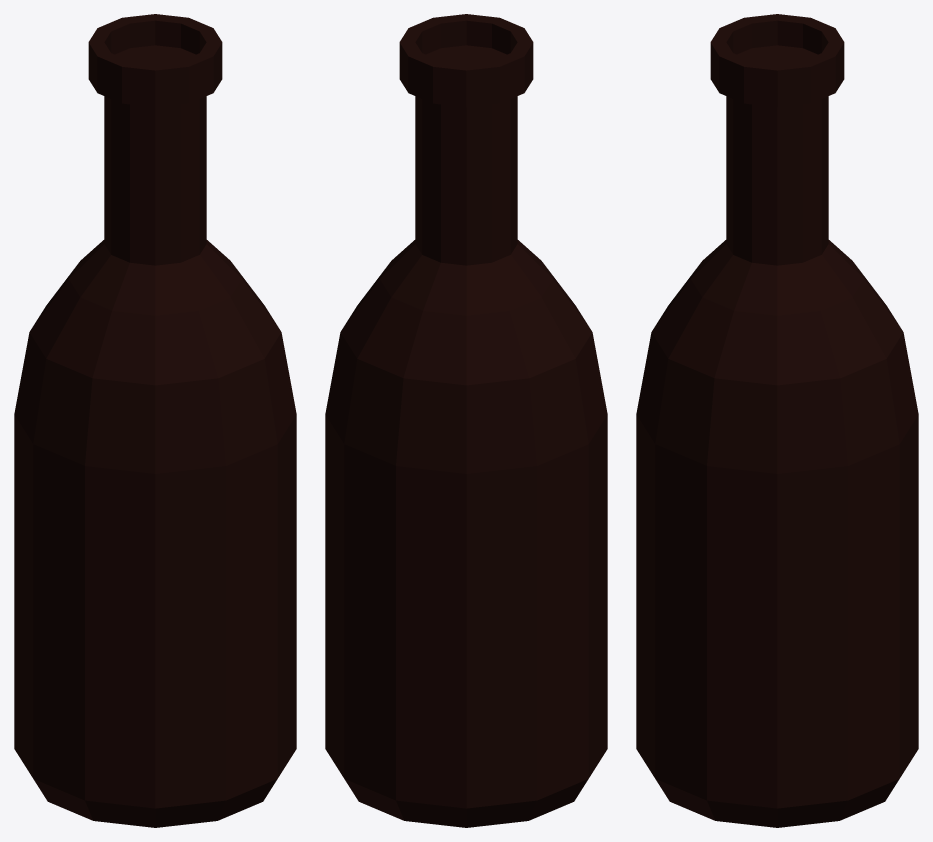
Rendered from bottle1.fbx.
3 renders of one model, left to right at view 1: azimuth 30°, elevation 25°; view 2: azimuth 150°, elevation 25°; view 3: azimuth 270°, elevation 25°, orthographic.
Parts seen in each view (by area): view 1: bottle; view 2: bottle; view 3: bottle.
Part boxes in pixels (x1=…): bottle: x1=14, y1=14, x2=296, y2=827; bottle: x1=325, y1=14, x2=607, y2=827; bottle: x1=636, y1=14, x2=918, y2=827.
Bounding box in the file's own units: 16 × 45.84 × 16.
